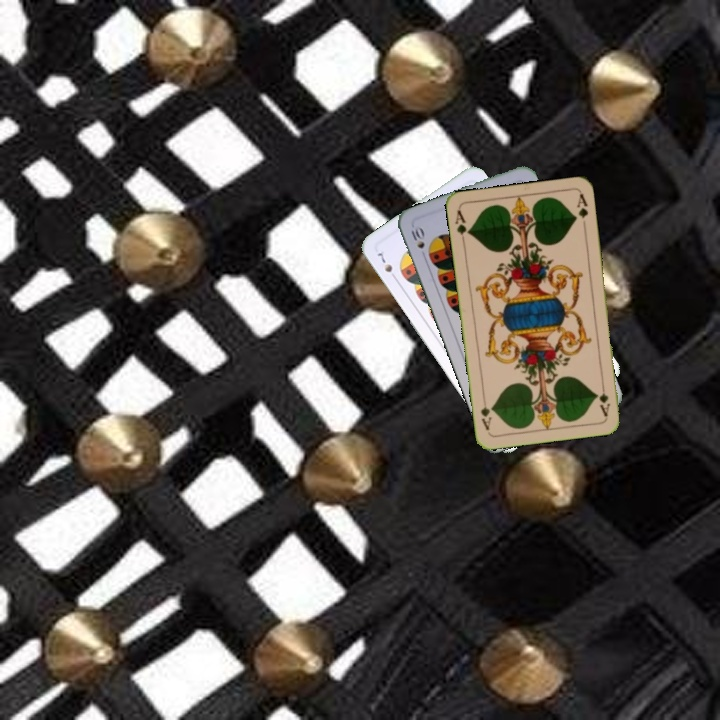GA: (451, 206, 472, 247), (595, 378, 613, 419)
S10: (407, 222, 427, 251)
S7: (374, 248, 400, 283)
